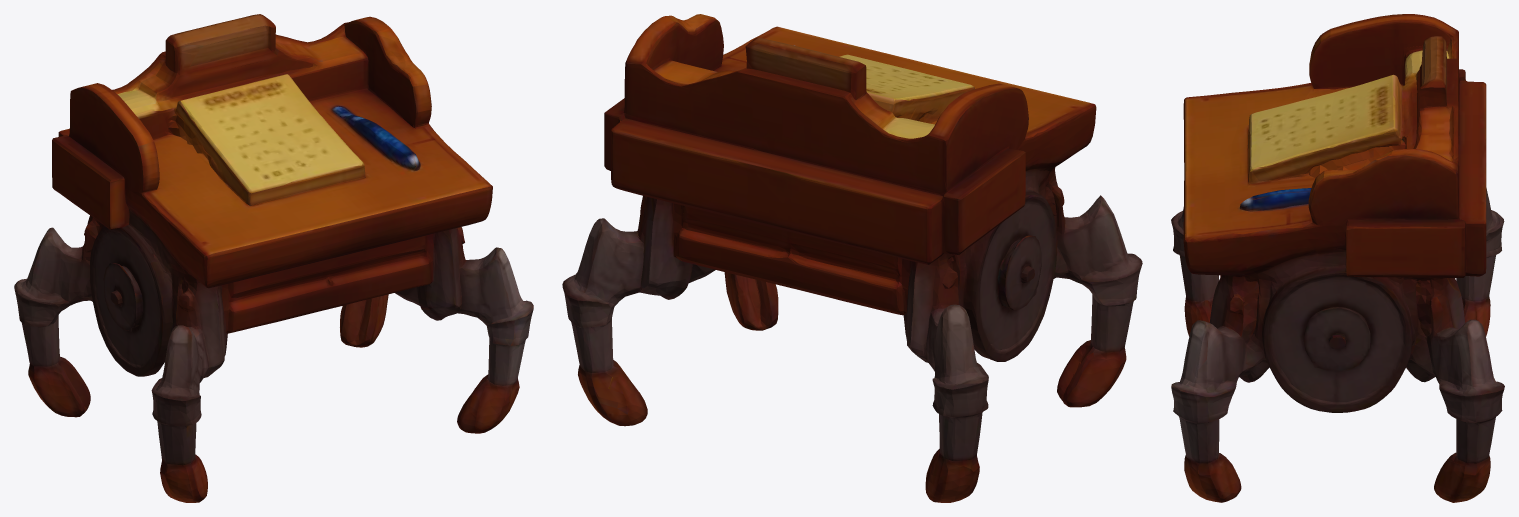
Rendered from table_pen_paper.glb.
3 views of the same model, side by side, from view 1: azimuth 30°, elevation 25°; view 2: azimuth 150°, elevation 25°; view 3: azimuth 270°, elevation 25° (orthographic). The views are drawn at different scales.
Visible parts, largest first — view 1: world.001; view 2: world.001; view 3: world.001.
Boxes of the visible parts, left/top/right/bottom form: world.001: left=14, top=14, right=533, bottom=502; world.001: left=562, top=14, right=1142, bottom=502; world.001: left=1171, top=14, right=1504, bottom=502.
Size of the model in its own units: 0.9975 by 0.9235 by 0.7573.
1 material, 1 textured.
